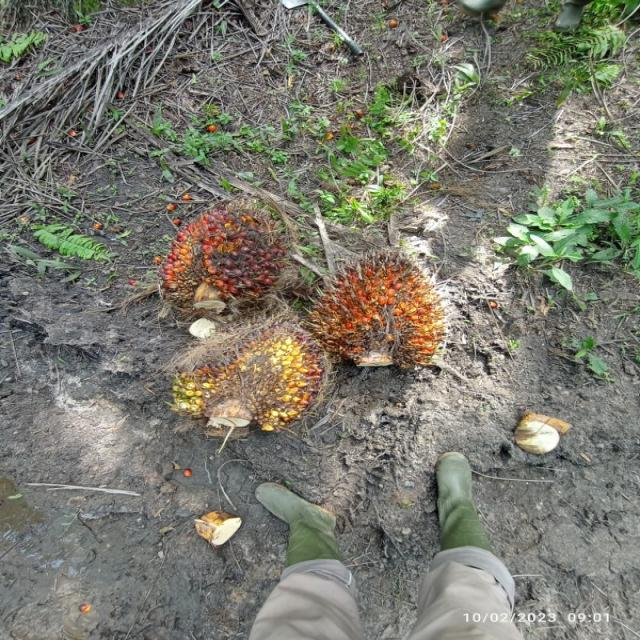fraksi 00: (160, 283, 333, 462), (146, 164, 284, 331)
fraksi 4: (297, 217, 459, 408)
